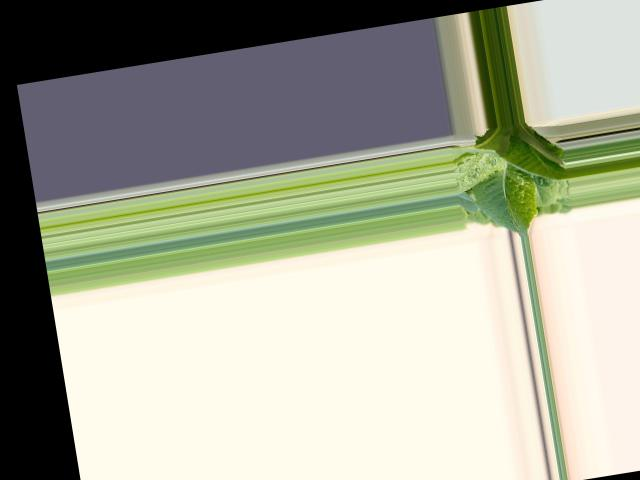lettuce: (459, 117, 572, 233)
